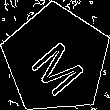M_NE: (23, 25, 89, 94)
